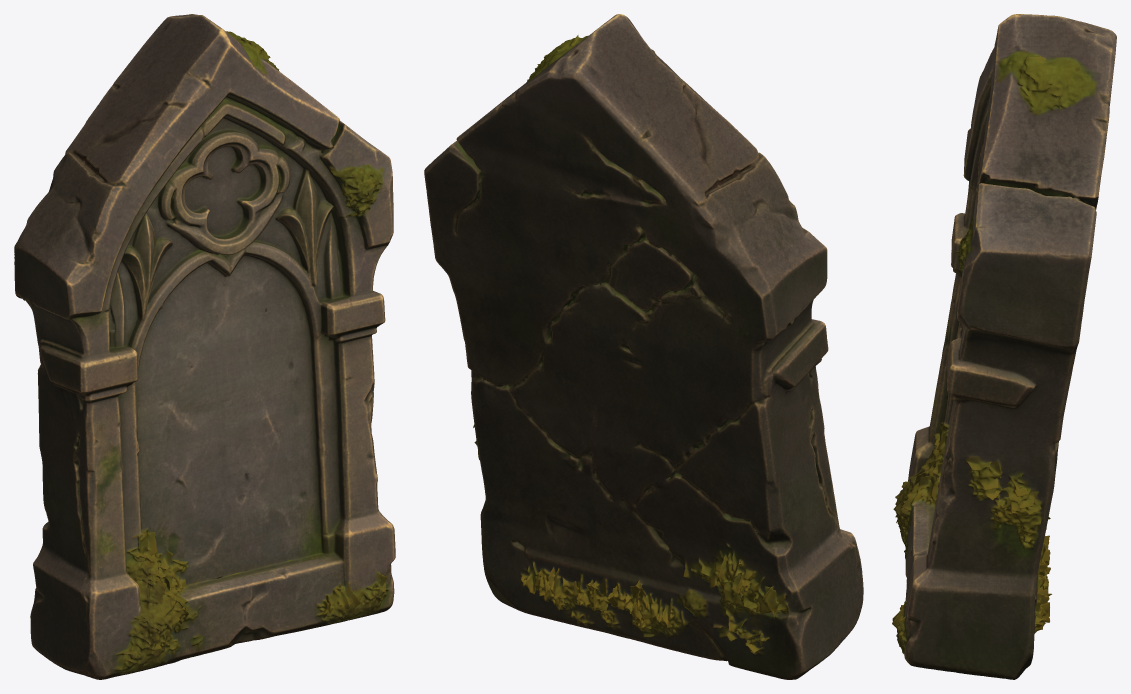
Rendered from tombstone_c.glb.
The picture shows the model from 3 angles, left to right: view 1: azimuth 30°, elevation 25°; view 2: azimuth 150°, elevation 25°; view 3: azimuth 270°, elevation 25°; orthographic projection. The views are drawn at different scales.
Size of the model in its own units: 0.5997 by 1 by 0.3346.
Materials: 1 (1 with a texture image).
